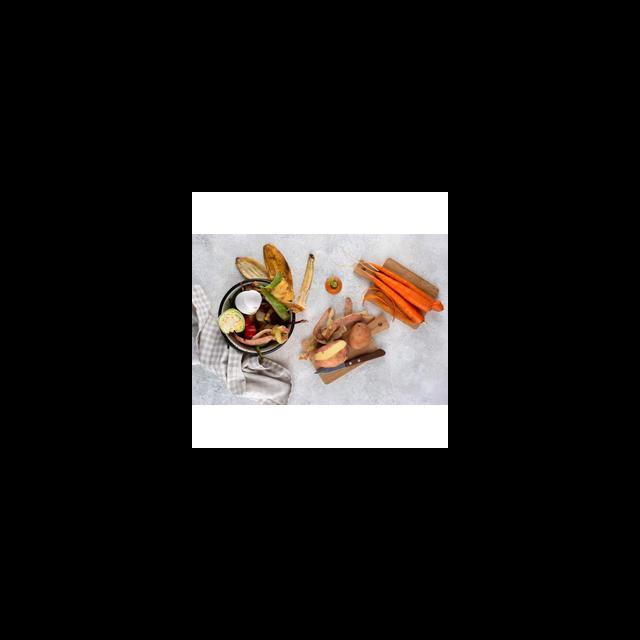food_waste: (247, 254, 325, 318), (355, 264, 431, 325), (314, 308, 355, 339), (235, 290, 267, 322), (219, 305, 247, 338), (321, 269, 345, 301)
